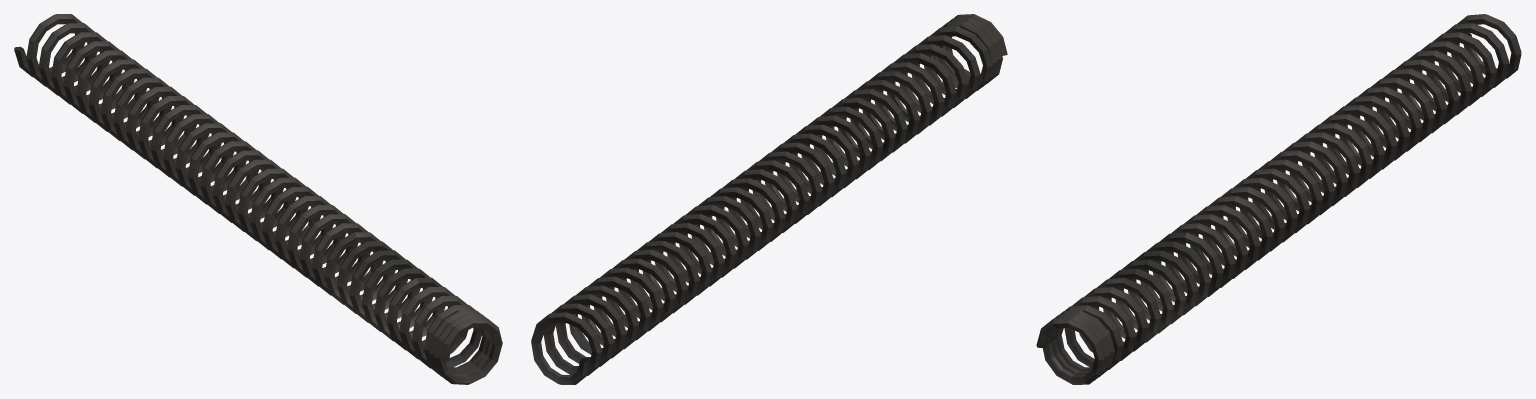
3 renders of one model, left to right at view 1: azimuth 30°, elevation 25°; view 2: azimuth 150°, elevation 25°; view 3: azimuth 330°, elevation 25°, orthographic.
Parts seen in each view (by area): view 1: TW_57838ad32459774a17445cd2_PZ_Import; view 2: TW_57838ad32459774a17445cd2_PZ_Import; view 3: TW_57838ad32459774a17445cd2_PZ_Import.
Part boxes in pixels (<box>): TW_57838ad32459774a17445cd2_PZ_Import: <box>14,14,502,384</box>; TW_57838ad32459774a17445cd2_PZ_Import: <box>531,14,1007,384</box>; TW_57838ad32459774a17445cd2_PZ_Import: <box>1036,14,1521,384</box>.
Bounding box in the file's own units: 0.00587 × 0.0661 × 0.00587.
Materials: 1 (1 with a texture image).
